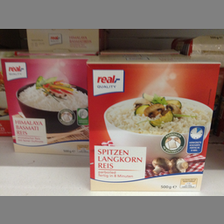rice: (87, 56, 221, 191), (1, 54, 88, 155)
